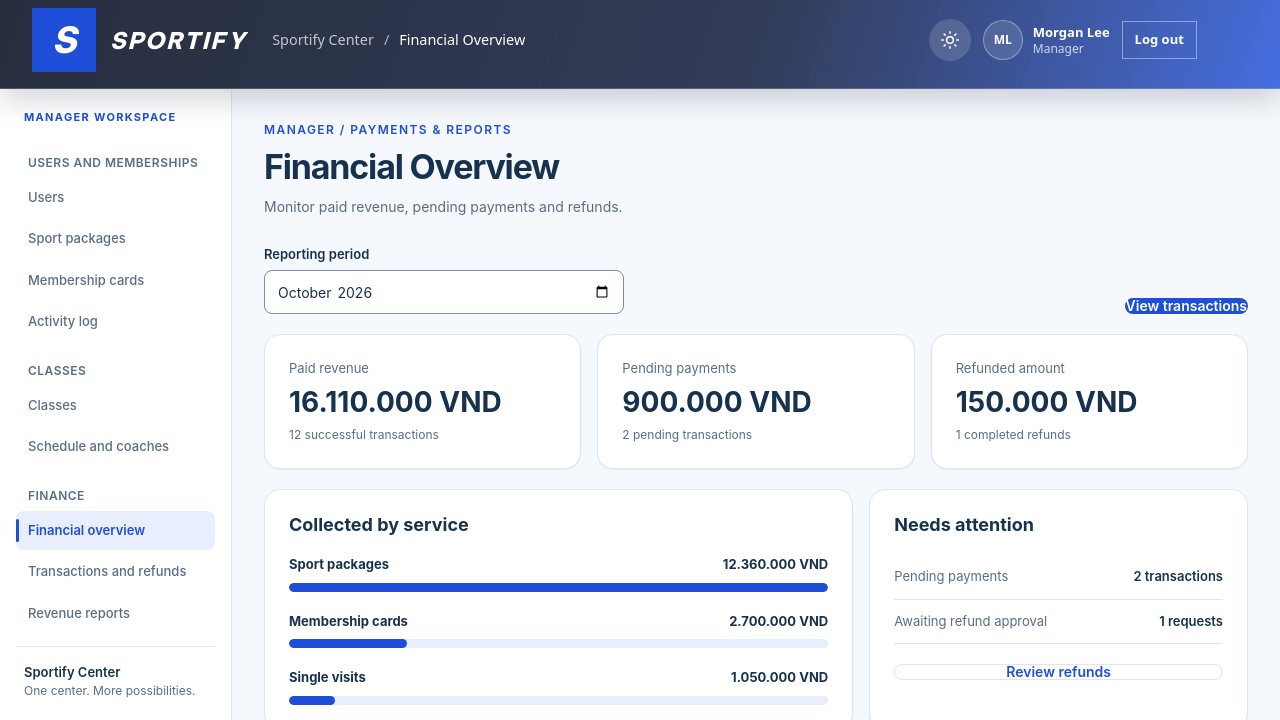
Test: FE-13 financial overview › updates the selected-month overview and transaction range while keeping trend semantics honest
Expected: the text "16.110.000 VND" is shown, [289,385,502,419]
Replace the text in the field labelled "Reporting period" with "2026-09" at [444, 292], box [264,270,624,314]
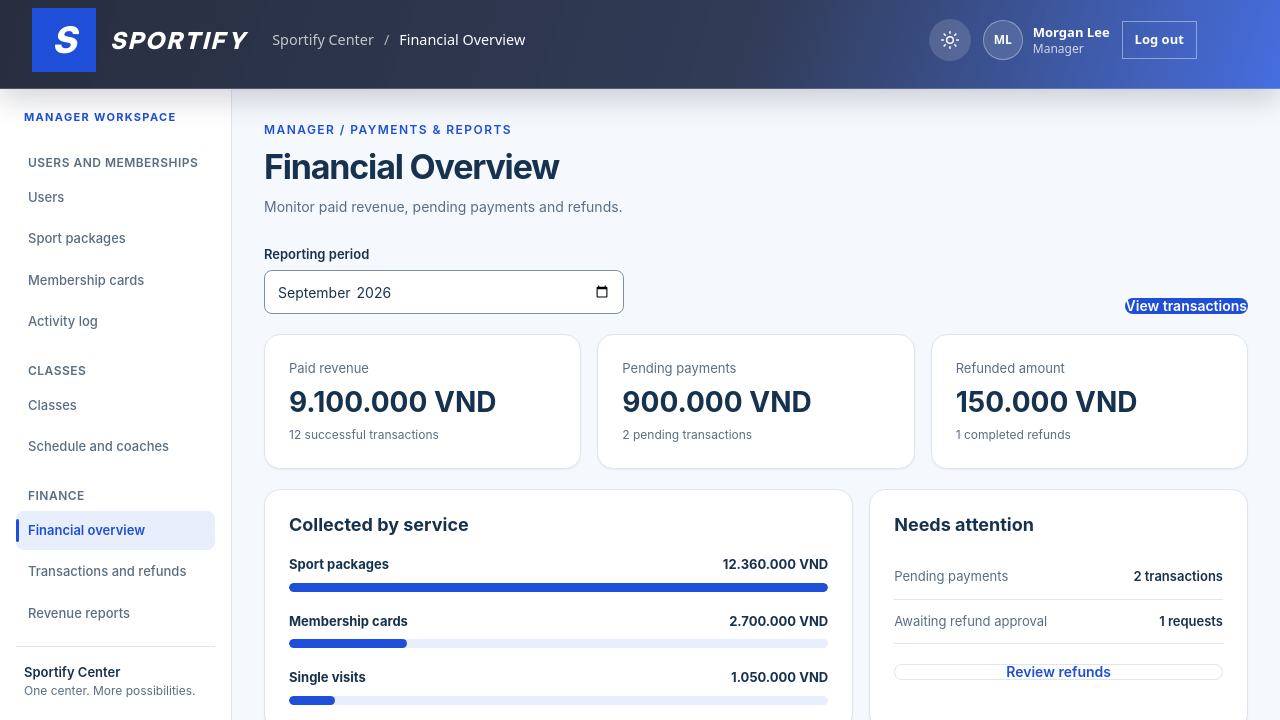
Expected: the text "9.100.000 VND" is shown, [289,385,496,419]
